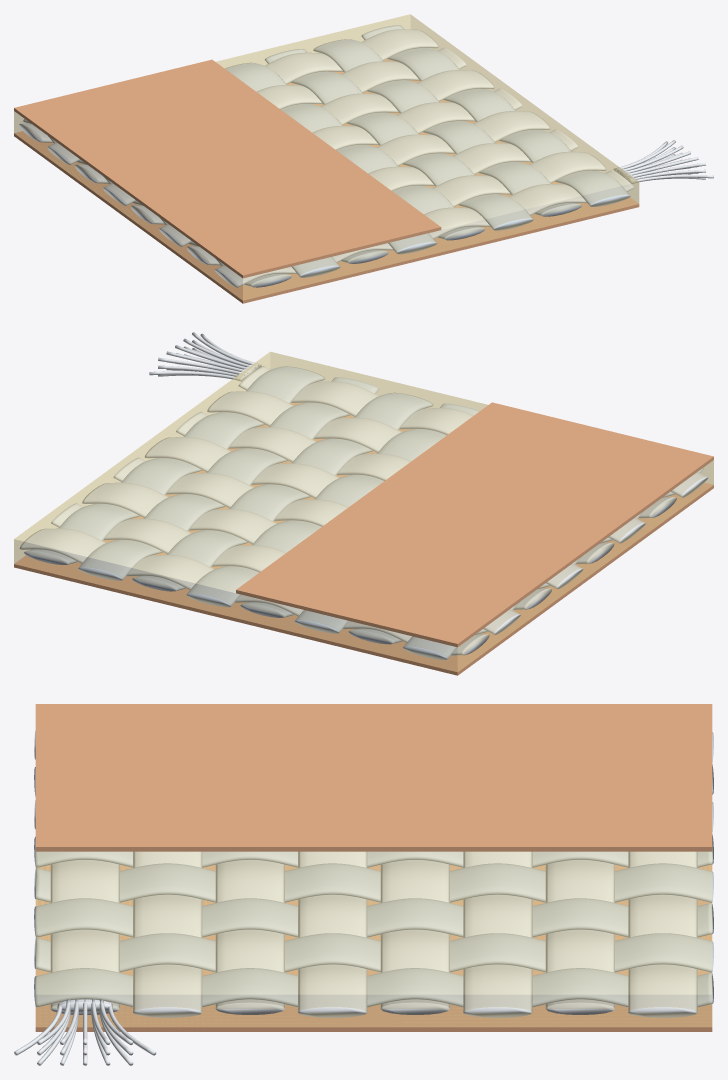
The model's file is glass_fabric.glb.
The picture shows the model from 3 angles, top to bottom: view 1: azimuth 30°, elevation 25°; view 2: azimuth 150°, elevation 25°; view 3: azimuth 270°, elevation 25°; orthographic projection. The views are drawn at different scales.
Visible parts, largest first — view 1: resin, copper_top, copper_bottom, yarn_weft_5, yarn_weft_7, yarn_weft_6, yarn_weft_4, yarn_warp_0, yarn_warp_1, yarn_warp_3, yarn_warp_5, yarn_warp_7 (+6 smaller); view 2: resin, copper_top, copper_bottom, yarn_weft_6, yarn_weft_7, yarn_weft_5, yarn_weft_4, yarn_warp_7, yarn_warp_1, yarn_warp_3, yarn_warp_5, yarn_warp_4 (+5 smaller); view 3: resin, copper_top, copper_bottom, yarn_weft_5, yarn_weft_7, yarn_weft_6, yarn_weft_4, yarn_warp_5, yarn_warp_7, yarn_warp_1, yarn_warp_3, yarn_warp_4 (+4 smaller).
Boxes of the visible parts, bbox=[...] form: resin: bbox=[14, 14, 639, 300]; copper_top: bbox=[14, 59, 441, 278]; copper_bottom: bbox=[14, 59, 639, 303]; yarn_weft_5: bbox=[265, 49, 533, 230]; yarn_weft_7: bbox=[361, 25, 630, 206]; yarn_weft_6: bbox=[313, 39, 581, 216]; yarn_weft_4: bbox=[225, 63, 485, 240]; yarn_warp_0: bbox=[214, 170, 633, 287]; yarn_warp_1: bbox=[186, 151, 606, 265]; yarn_warp_3: bbox=[130, 111, 550, 224]; yarn_warp_5: bbox=[75, 70, 494, 183]; yarn_warp_7: bbox=[19, 29, 438, 142]; resin: bbox=[14, 351, 713, 671]; copper_top: bbox=[236, 402, 713, 647]; copper_bottom: bbox=[14, 402, 713, 675]; yarn_weft_6: bbox=[78, 377, 378, 580]; yarn_weft_7: bbox=[24, 366, 324, 564]; yarn_weft_5: bbox=[132, 393, 433, 591]; yarn_weft_4: bbox=[186, 403, 479, 607]; yarn_warp_7: bbox=[19, 528, 489, 655]; yarn_warp_1: bbox=[207, 391, 676, 518]; yarn_warp_3: bbox=[145, 437, 614, 563]; yarn_warp_5: bbox=[82, 482, 551, 609]; yarn_warp_4: bbox=[113, 457, 583, 588]; resin: bbox=[35, 852, 712, 1027]; copper_top: bbox=[35, 704, 712, 851]; copper_bottom: bbox=[35, 864, 712, 1031]; yarn_weft_5: bbox=[34, 898, 713, 937]; yarn_weft_7: bbox=[34, 968, 713, 1007]; yarn_weft_6: bbox=[34, 933, 713, 972]; yarn_weft_4: bbox=[34, 863, 713, 902]; yarn_warp_5: bbox=[463, 851, 532, 1017]; yarn_warp_7: bbox=[628, 851, 697, 1017]; yarn_warp_1: bbox=[133, 851, 202, 1017]; yarn_warp_3: bbox=[298, 851, 367, 1017]; yarn_warp_4: bbox=[380, 860, 449, 1014].
Size of the model in its own units: 9.64 by 0.56 by 8.48.
